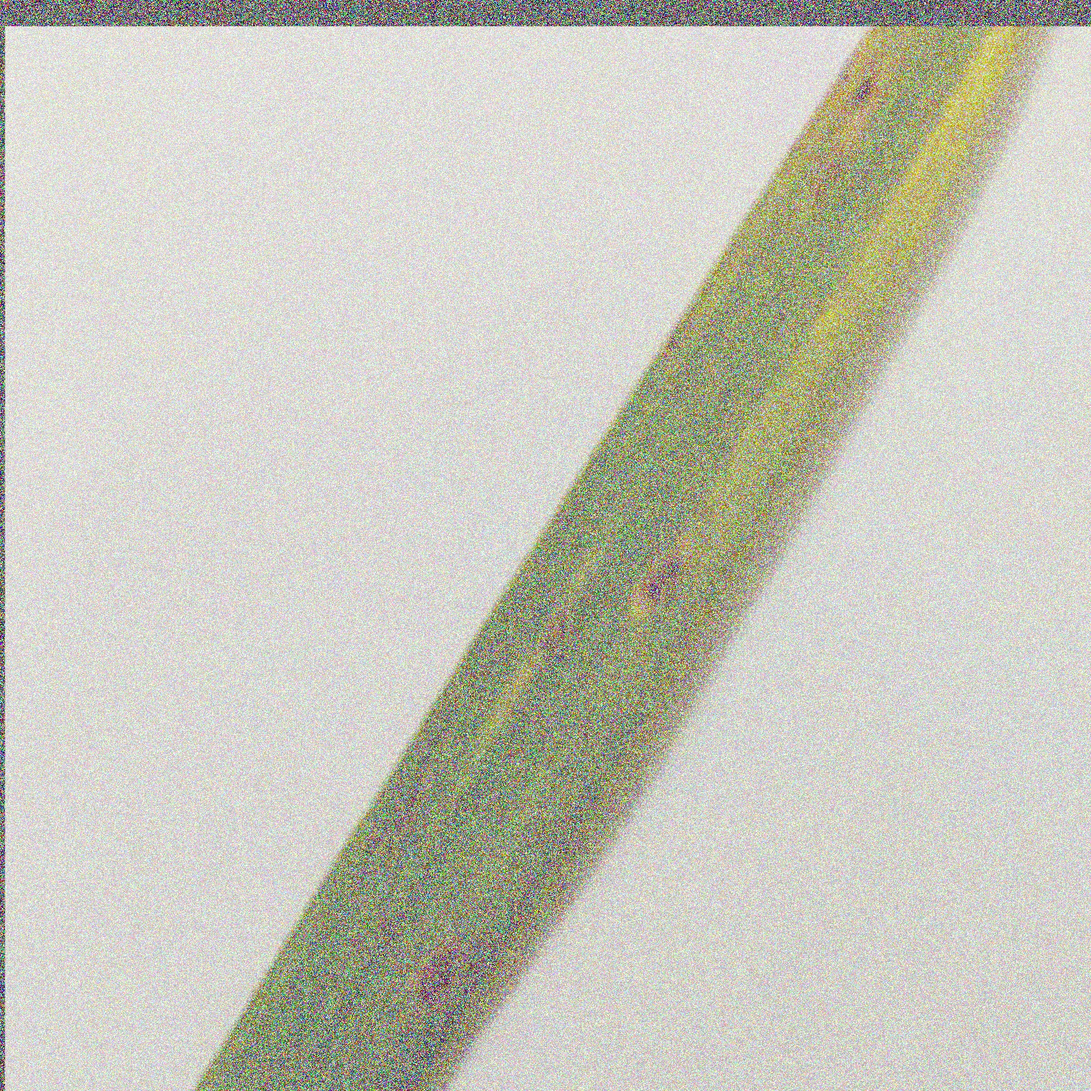Brown_Spot: (401, 913, 470, 1023), (625, 527, 688, 629), (829, 65, 880, 114)
